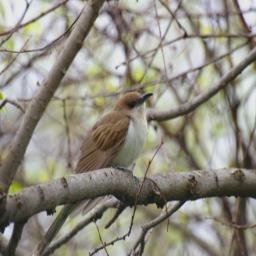Cuckoo: (31, 92, 154, 256)
